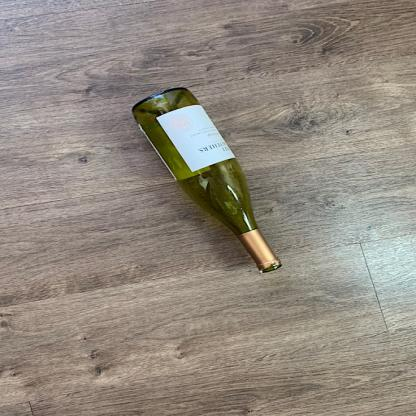trash: (132, 87, 284, 275)
